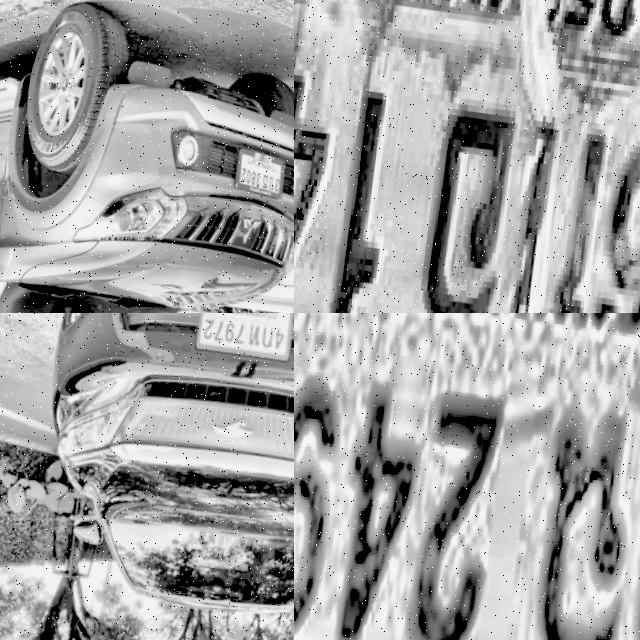license-plate: (294, 313, 640, 640), (294, 0, 640, 313), (197, 313, 294, 355), (234, 137, 292, 189)
